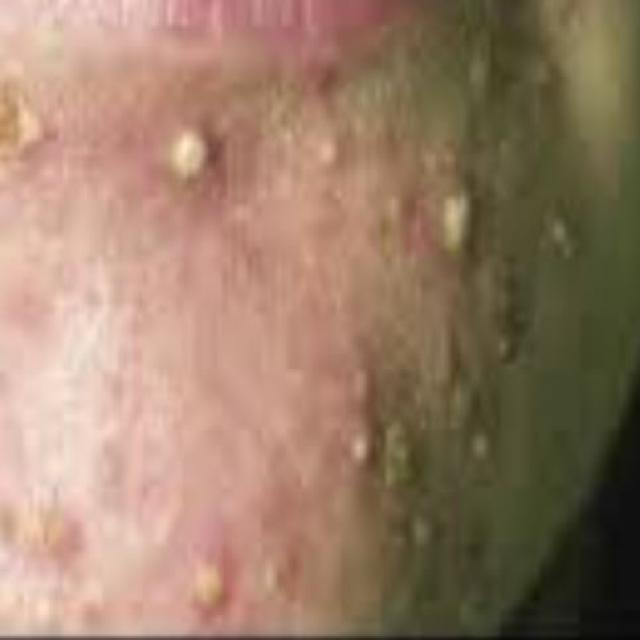pustule: (307, 328, 533, 596), (276, 103, 502, 301), (6, 466, 129, 630), (493, 187, 603, 366), (444, 31, 581, 153), (150, 95, 245, 227), (177, 540, 250, 634)
